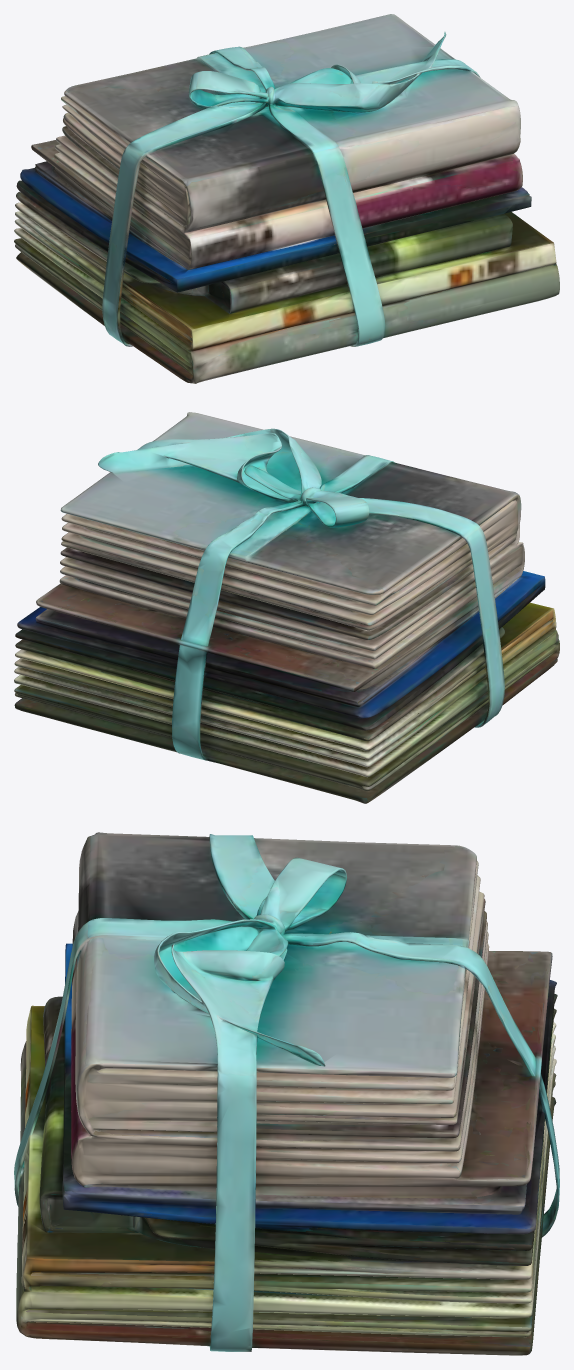
Rendered from book-stack.glb.
3 views of the same model, one above another, from view 1: azimuth 30°, elevation 25°; view 2: azimuth 150°, elevation 25°; view 3: azimuth 270°, elevation 25° (orthographic). The views are drawn at different scales.
Visible parts, largest first — view 1: node_0; view 2: node_0; view 3: node_0.
Part boxes in pixels (x1,y1,x2,y2): node_0: (14,14,559,383); node_0: (14,412,559,803); node_0: (14,832,559,1355).
Size of the model in its own units: 0.8938 by 0.4937 by 0.7603.
Materials: 1 (1 with a texture image).
